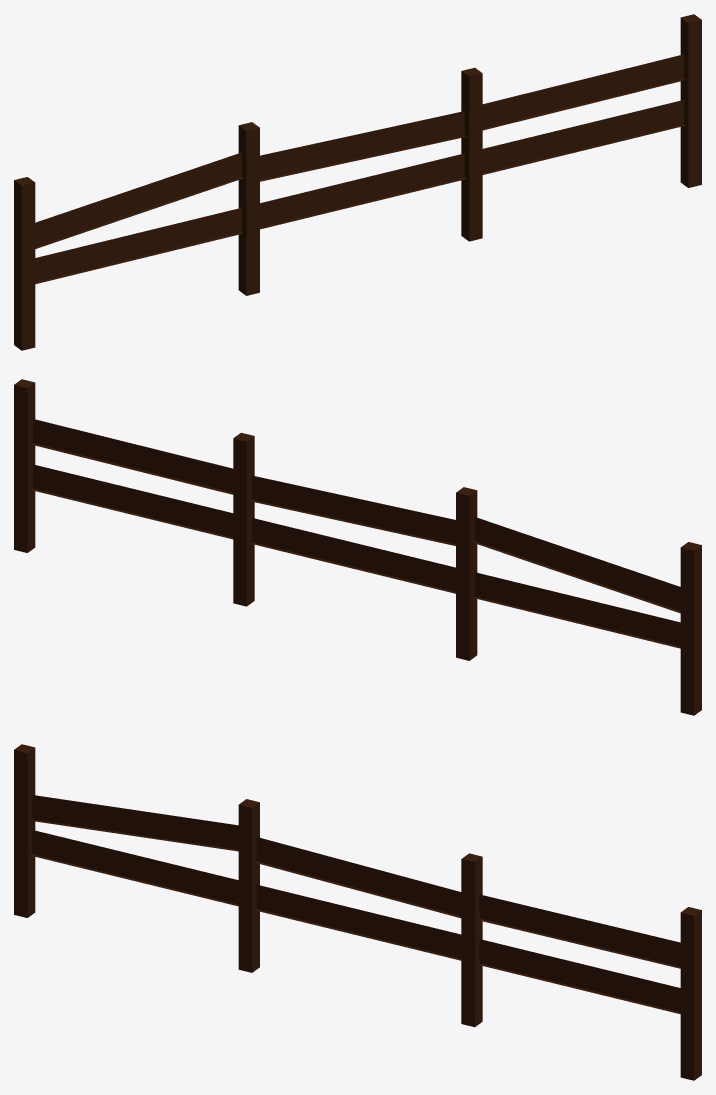
Rendered from Fencesv1.fbx.
3 renders of one model, top to bottom at view 1: azimuth 30°, elevation 25°; view 2: azimuth 150°, elevation 25°; view 3: azimuth 330°, elevation 25°, orthographic.
Parts seen in each view (by area): view 1: Cube.1493; view 2: Cube.1493; view 3: Cube.1493.
Part boxes in pixels (<box>): Cube.1493: <box>14,14,701,350</box>; Cube.1493: <box>14,379,701,715</box>; Cube.1493: <box>14,744,701,1080</box>.
Bounding box in the file's own units: 110 × 25.5 × 2.2.
